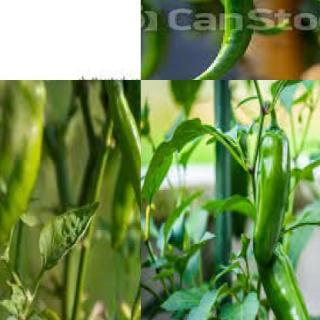green_chilli: (95, 80, 140, 282), (153, 0, 254, 79), (253, 130, 293, 264), (253, 251, 318, 319), (129, 115, 140, 319)
